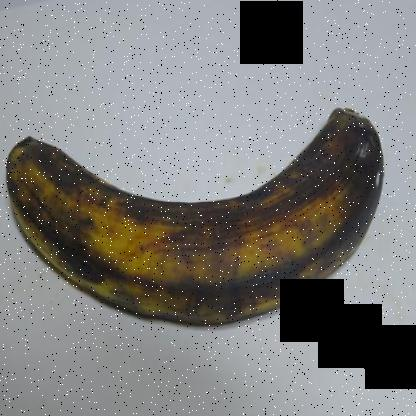overripe: (1, 92, 393, 342)
rotten: (297, 105, 408, 240)
